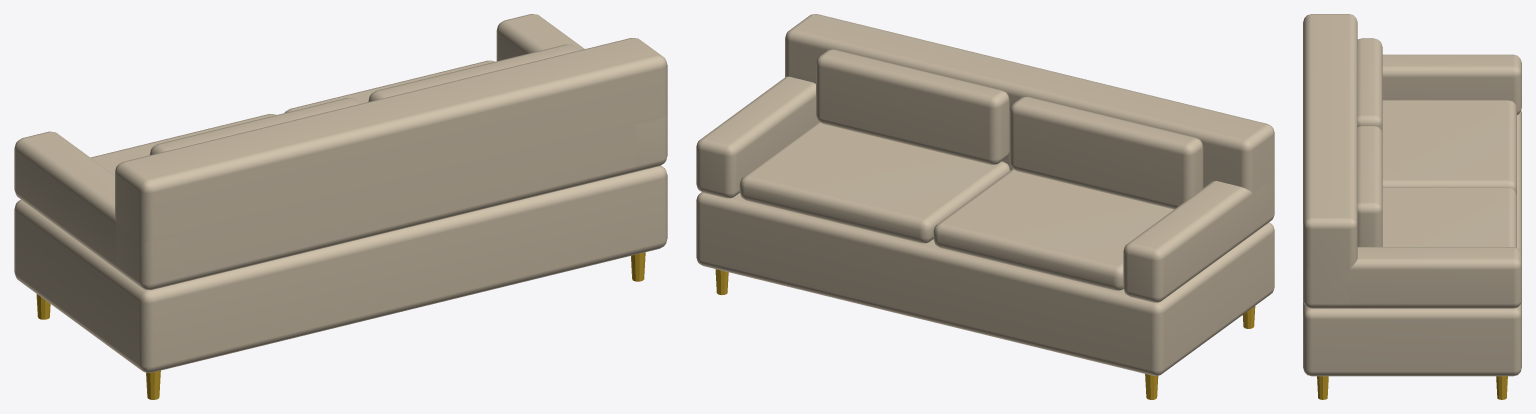
The model's file is prop_sofa.glb.
3 views of the same model, side by side, from view 1: azimuth 30°, elevation 25°; view 2: azimuth 150°, elevation 25°; view 3: azimuth 270°, elevation 25° (orthographic). The views are drawn at different scales.
Visible parts, largest first — view 1: Sofa; view 2: Sofa; view 3: Sofa.
Part boxes in pixels (<box>): Sofa: <box>14,14,667,399</box>; Sofa: <box>696,14,1274,399</box>; Sofa: <box>1303,14,1521,399</box>.
Size of what is drawn, in the model's own units: 2 by 0.82 by 0.88.
